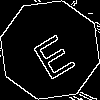E: (25, 25, 78, 81)
